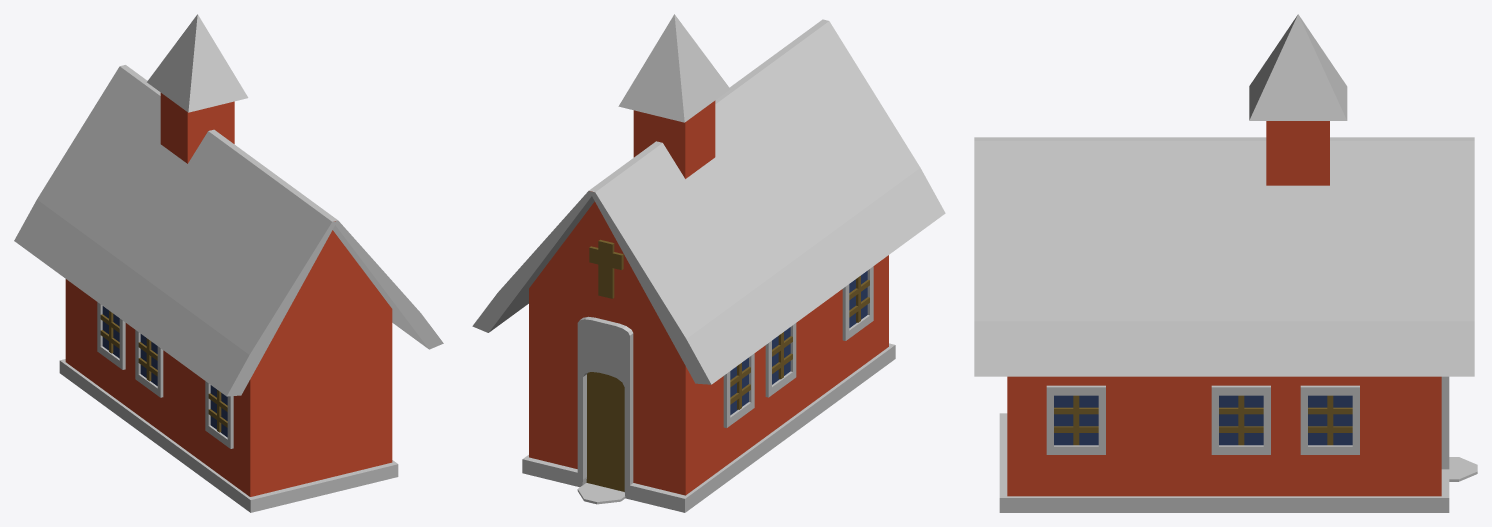
Rendered from Church.fbx.
The picture shows the model from 3 angles, left to right: view 1: azimuth 30°, elevation 25°; view 2: azimuth 150°, elevation 25°; view 3: azimuth 270°, elevation 25°; orthographic projection. The views are drawn at different scales.
Parts seen in each view (by area): view 1: Church; view 2: Church; view 3: Church.
Part boxes in pixels (box(x1,y1,x2,y2)): Church: box(14, 14, 443, 512); Church: box(472, 14, 945, 512); Church: box(974, 14, 1477, 512).
Bounding box in the file's own units: 611 × 1044 × 1042.
